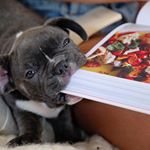puppy: (1, 12, 98, 119)
